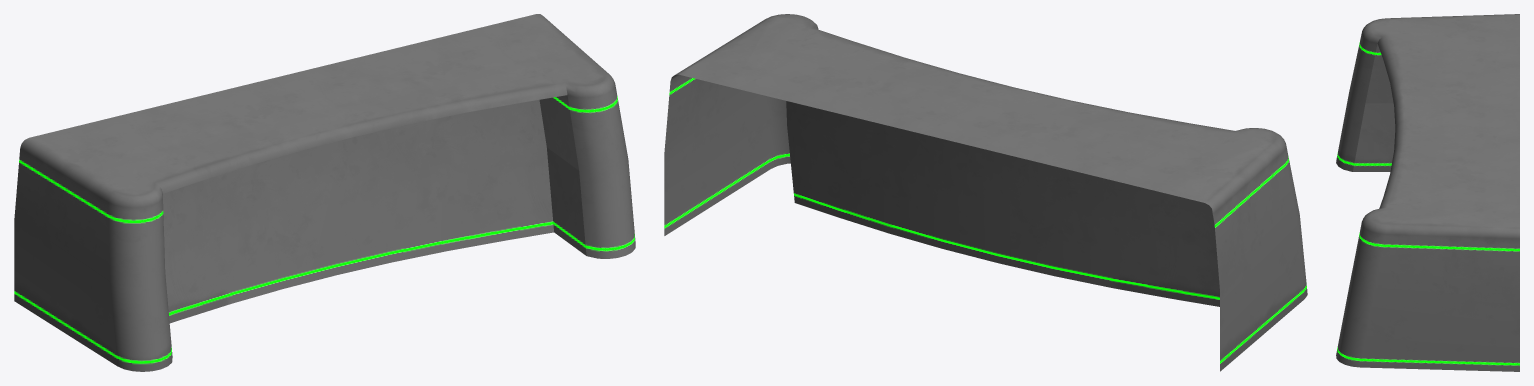
Rendered from Consola color claro.fbx.
The picture shows the model from 3 angles, left to right: view 1: azimuth 30°, elevation 25°; view 2: azimuth 150°, elevation 25°; view 3: azimuth 270°, elevation 25°; orthographic projection. The views are drawn at different scales.
Parts seen in each view (by area): view 1: Consola; view 2: Consola; view 3: Consola.
Boxes of the visible parts, x1=… form: Consola: x1=14, y1=14, x2=635, y2=371; Consola: x1=664, y1=14, x2=1307, y2=371; Consola: x1=1336, y1=14, x2=1519, y2=371.
Bounding box in the file's own units: 278 × 78.96 × 95.6.
Materials: 1 (1 with a texture image).
